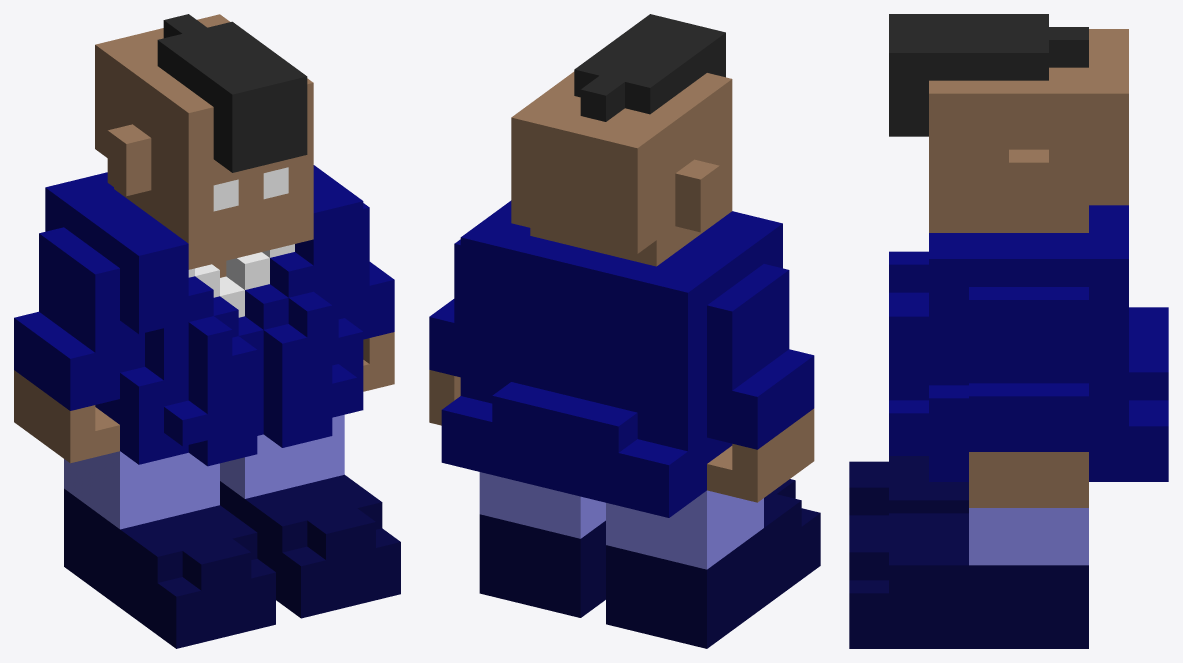
The model's file is enemy_Speed.obj.
3 renders of one model, left to right at view 1: azimuth 30°, elevation 25°; view 2: azimuth 150°, elevation 25°; view 3: azimuth 270°, elevation 25°, orthographic. The views are drawn at different scales.
Parts seen in each view (by area): view 1: Untitled; view 2: Untitled; view 3: Untitled.
Boxes of the visible parts, x1,y1,x2,y2 form: Untitled: (14,14,400,648); Untitled: (429,14,820,648); Untitled: (849,14,1168,648).
Bounding box in the file's own units: 1.3 × 2 × 1.04.
Materials: 1 (1 with a texture image).
